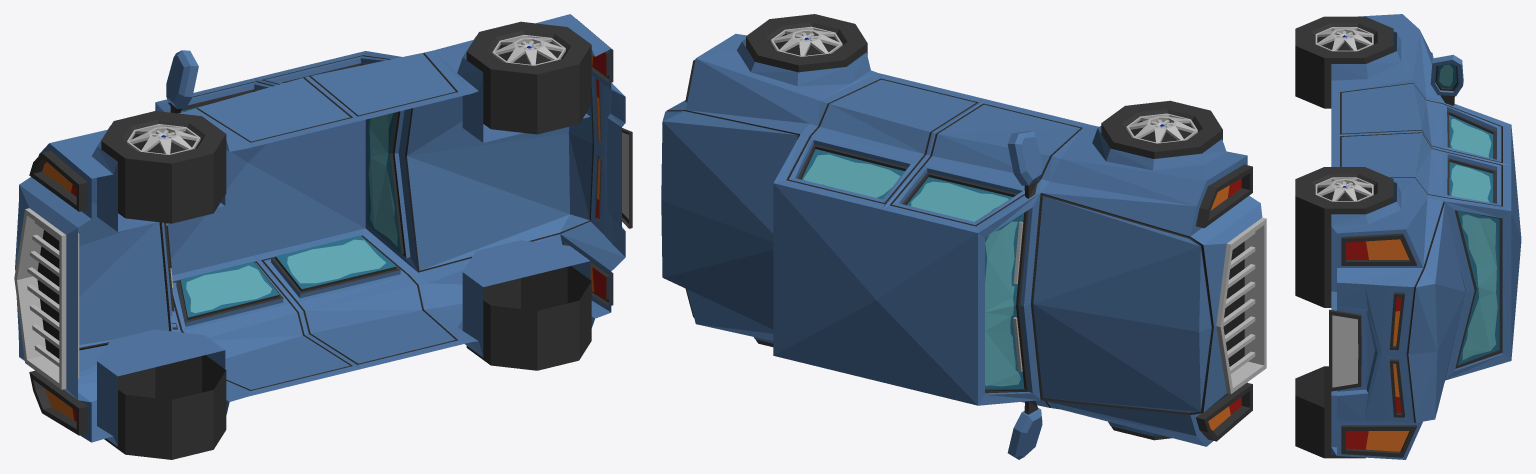
The model's file is Car_01.FBX.
3 renders of one model, left to right at view 1: azimuth 30°, elevation 25°; view 2: azimuth 150°, elevation 25°; view 3: azimuth 270°, elevation 25°, orthographic. The views are drawn at different scales.
Parts seen in each view (by area): view 1: Car_01; view 2: Car_01; view 3: Car_01.
Part boxes in pixels (left/top/right/bottom): Car_01: left=14, top=14, right=632, bottom=459; Car_01: left=661, top=14, right=1266, bottom=459; Car_01: left=1295, top=14, right=1521, bottom=459.
Size of the model in its own units: 6.49 by 3.61 by 2.61.
